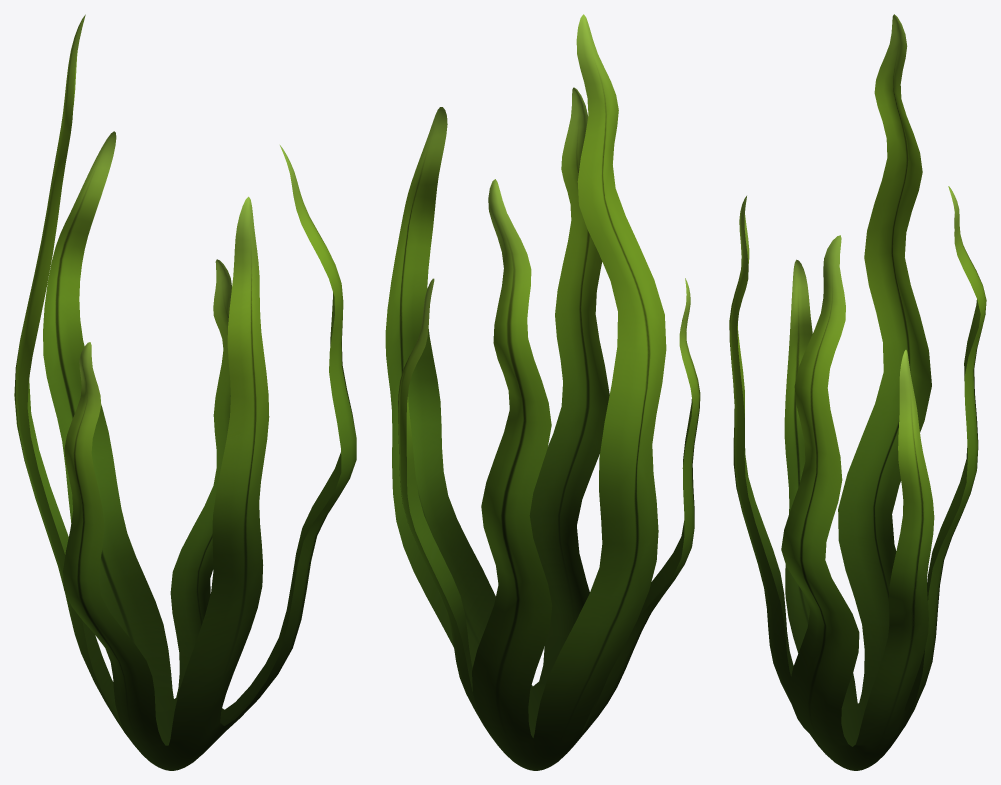
The picture shows the model from 3 angles, left to right: view 1: azimuth 30°, elevation 25°; view 2: azimuth 150°, elevation 25°; view 3: azimuth 270°, elevation 25°; orthographic projection. The views are drawn at different scales.
Visible parts, largest first — view 1: Seaweed; view 2: Seaweed; view 3: Seaweed.
Boxes of the visible parts, x1,y1,x2,y2 form: Seaweed: [14, 14, 356, 770]; Seaweed: [385, 14, 700, 770]; Seaweed: [729, 14, 986, 770].
Bounding box in the file's own units: 61.55 × 153 × 49.19.
1 material, 1 textured.
